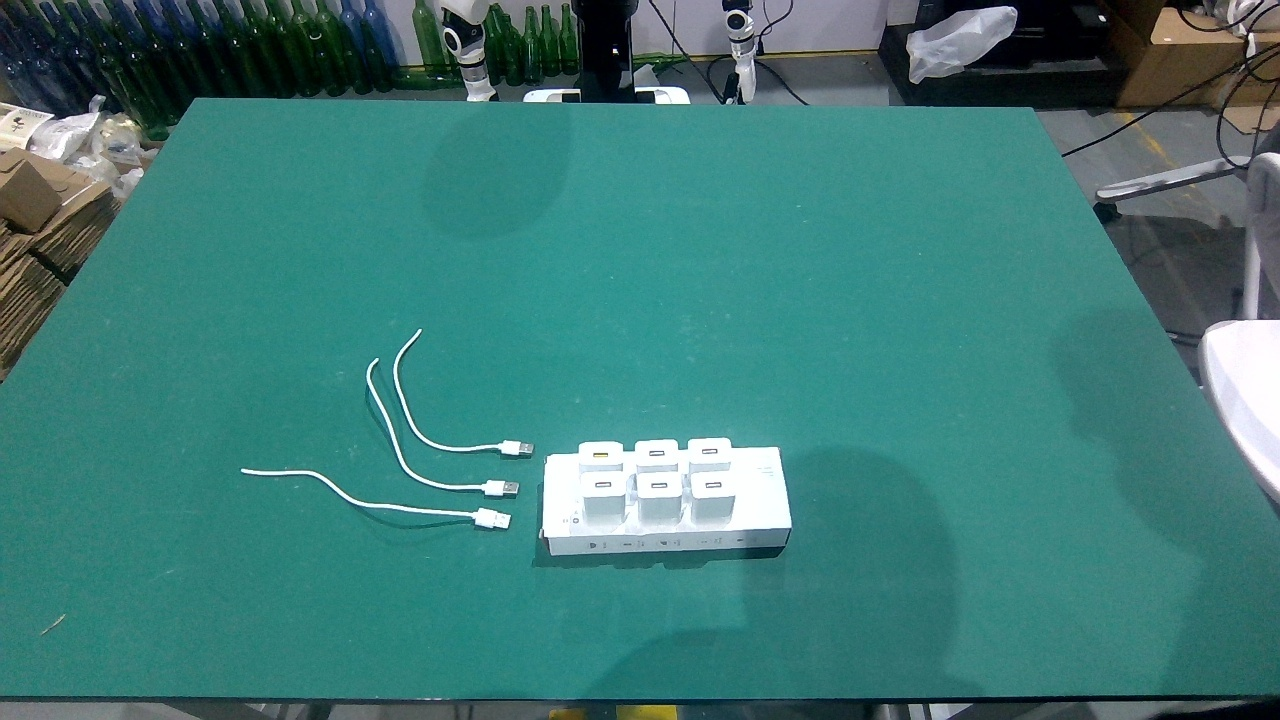usb_a_plug: (462, 504, 513, 532), (484, 438, 536, 459), (466, 479, 520, 495)
